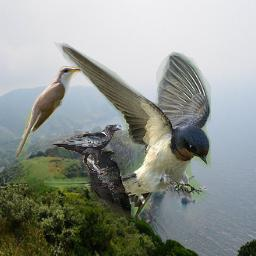Crow: (48, 123, 122, 173)
Cuckoo: (13, 66, 81, 161)
Swallow: (44, 41, 211, 218)
Woodpecker: (74, 131, 131, 217)
